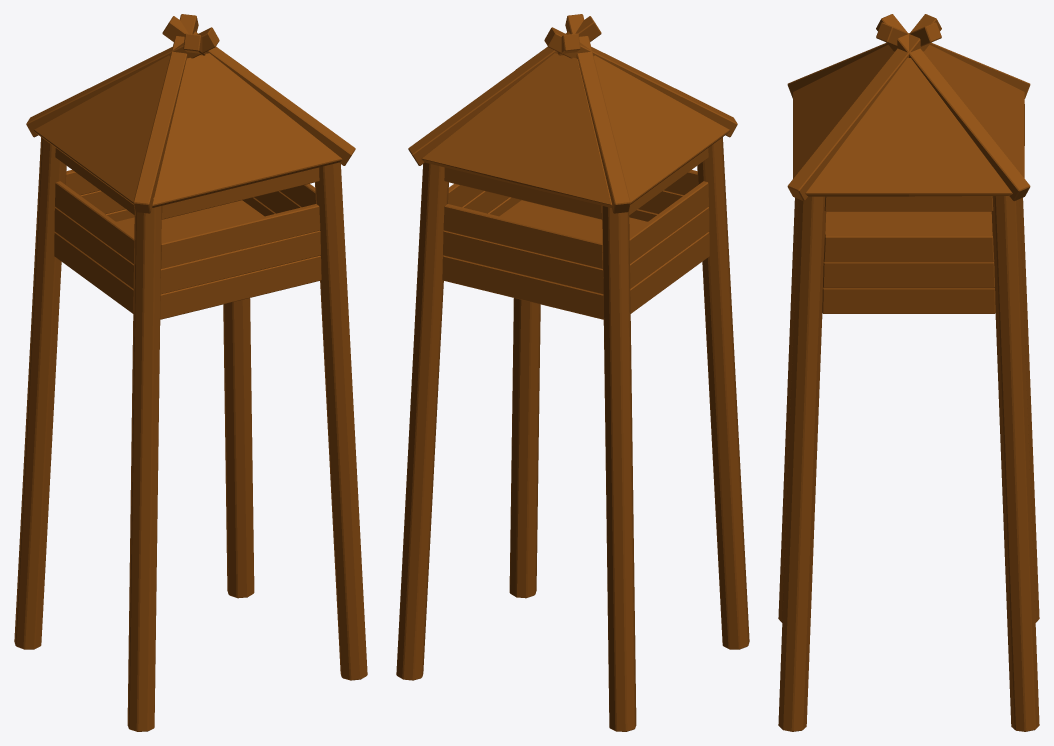
Rendered from testTower.fbx.
3 renders of one model, left to right at view 1: azimuth 30°, elevation 25°; view 2: azimuth 150°, elevation 25°; view 3: azimuth 270°, elevation 25°, orthographic. The views are drawn at different scales.
Visible parts, largest first — view 1: testTower; view 2: testTower; view 3: testTower.
Part boxes in pixels (x1,y1,x2,y2): testTower: (14,14,367,731); testTower: (396,14,749,731); testTower: (778,14,1039,731).
Size of the model in its own units: 29.15 by 74.76 by 27.07.
